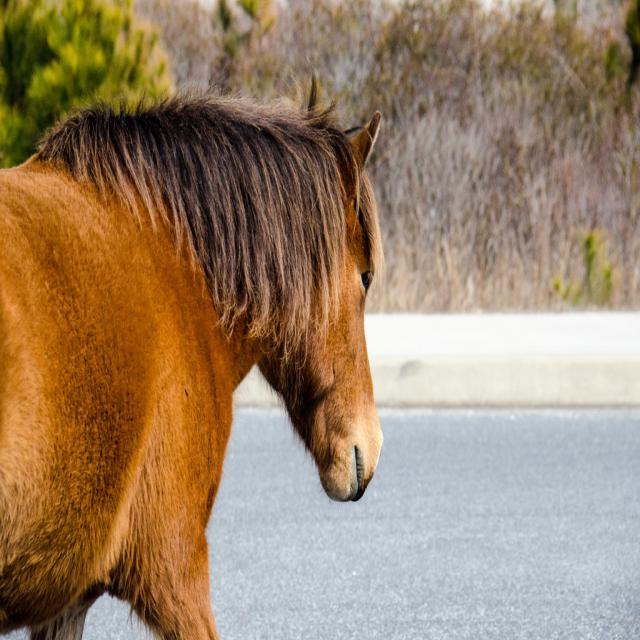Horse: (0, 93, 388, 639)
